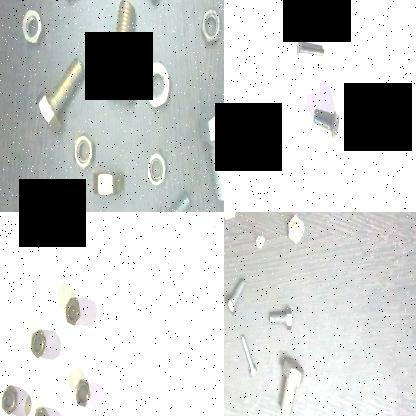Bolts: (100, 2, 142, 107), (34, 58, 87, 138), (200, 105, 224, 203), (277, 355, 309, 416), (311, 93, 342, 142), (235, 330, 259, 380), (294, 30, 326, 66), (224, 274, 250, 318), (151, 186, 194, 212), (283, 212, 307, 249), (267, 304, 295, 334), (256, 230, 268, 250)
NUTS: (89, 158, 127, 208), (141, 59, 173, 116), (144, 140, 172, 192), (66, 134, 100, 174), (197, 3, 224, 46), (22, 8, 48, 50), (74, 374, 92, 410), (30, 324, 48, 360), (0, 381, 18, 416), (65, 294, 81, 327), (32, 405, 50, 416)
